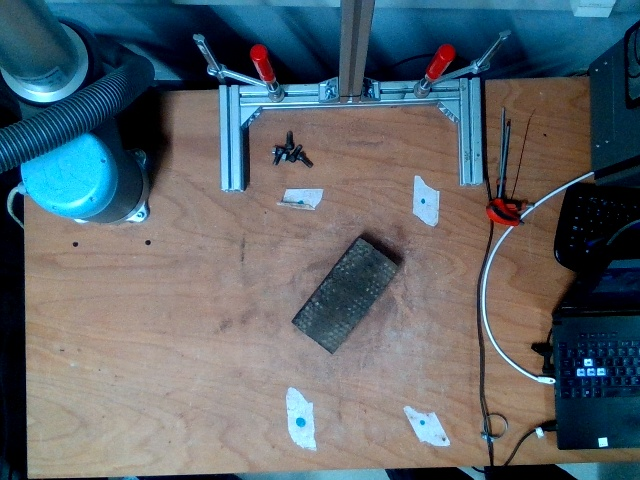brick: (294, 237, 401, 355)
